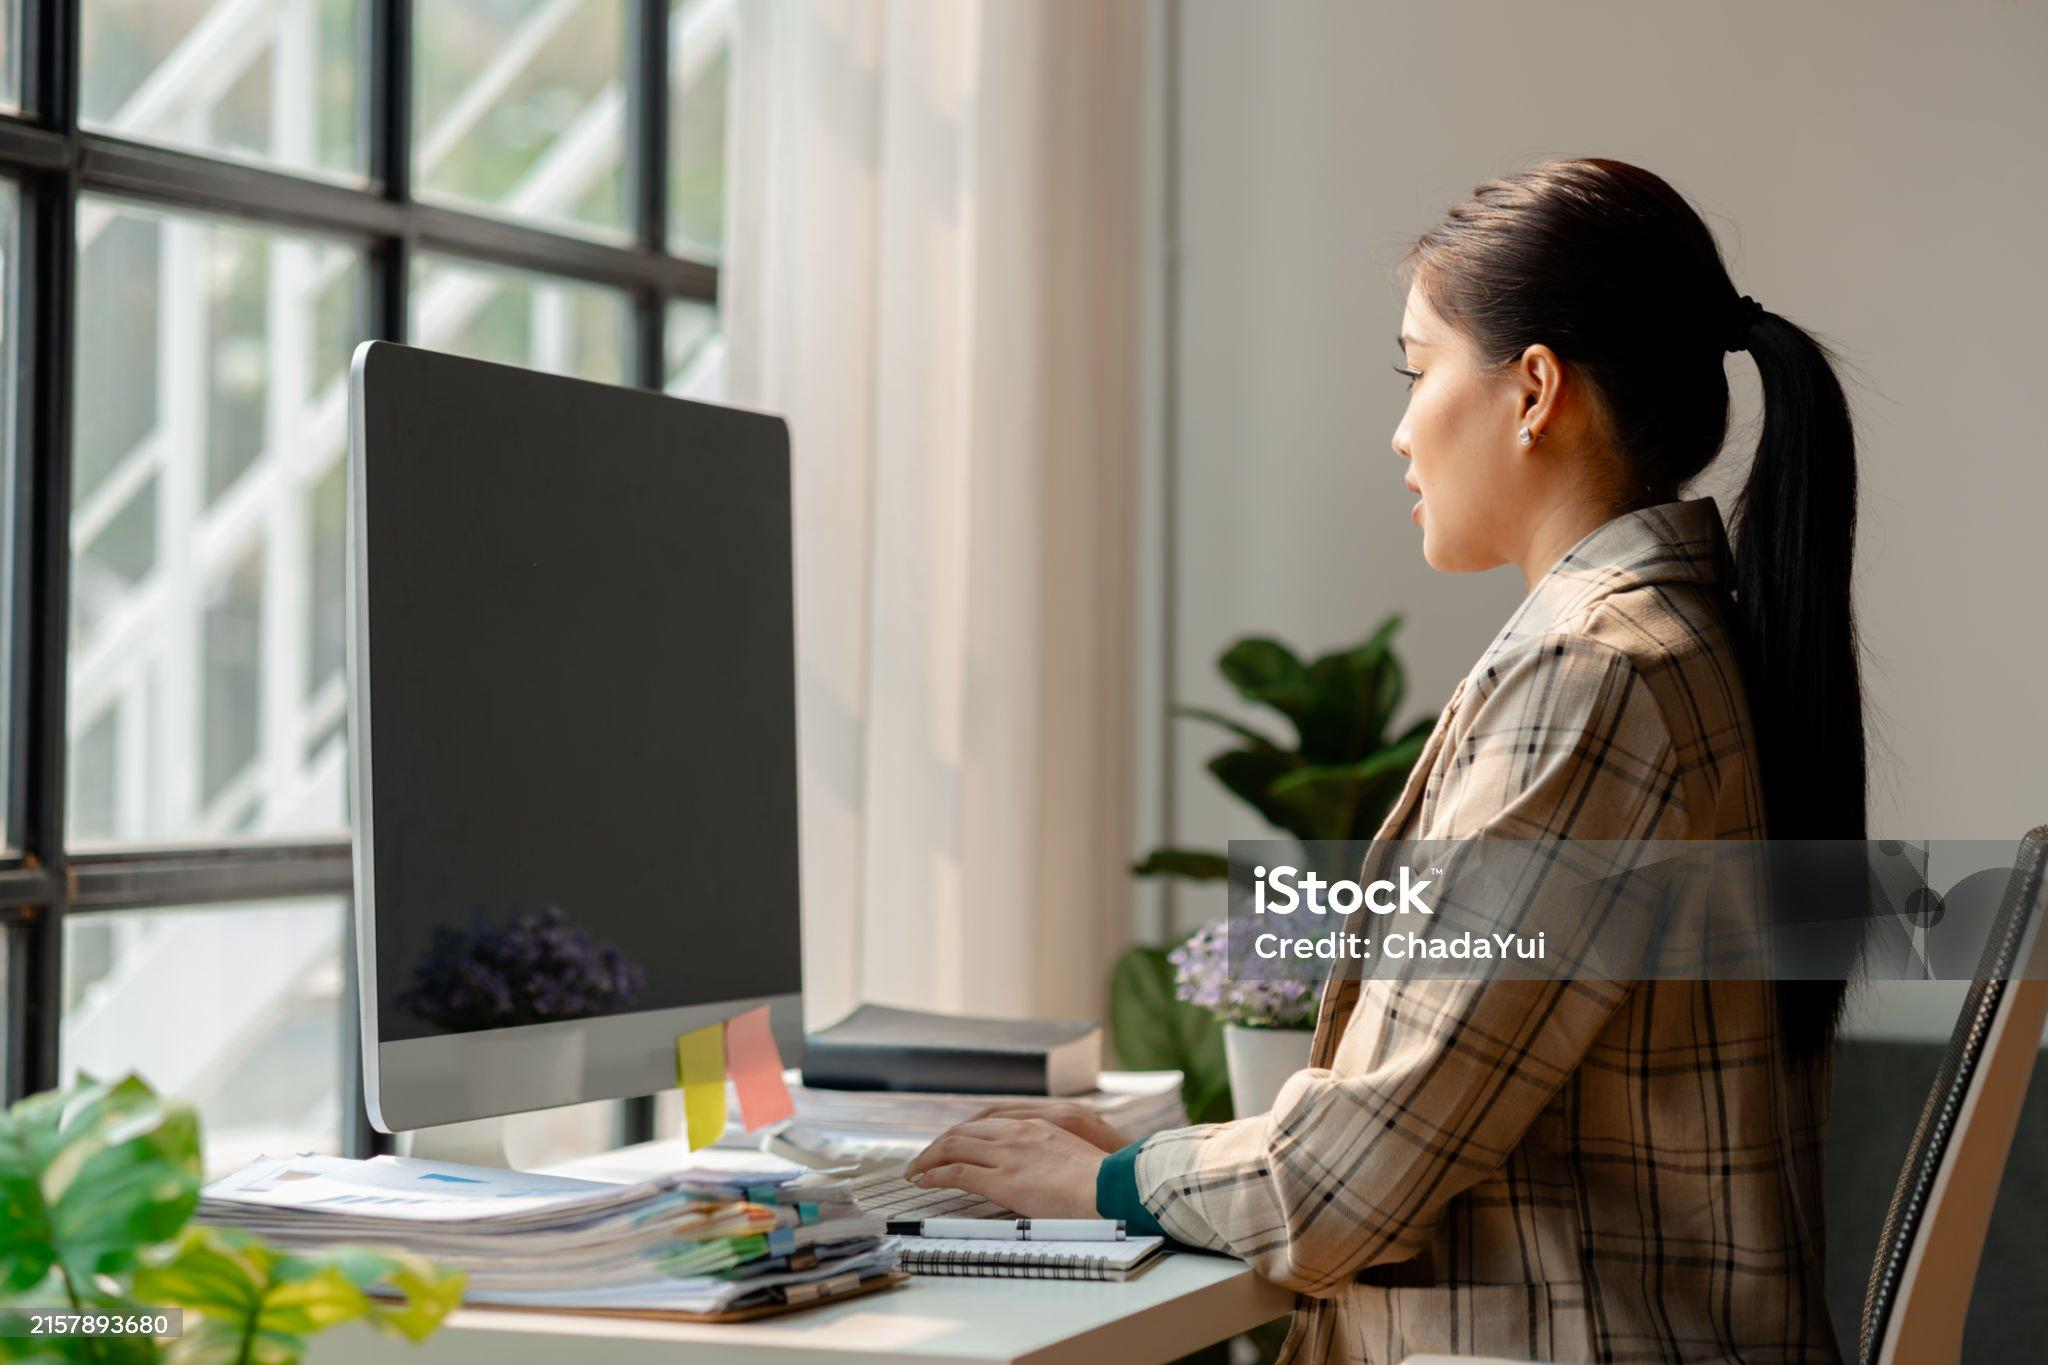Good Sitting Posture: (900, 151, 1877, 1359)
